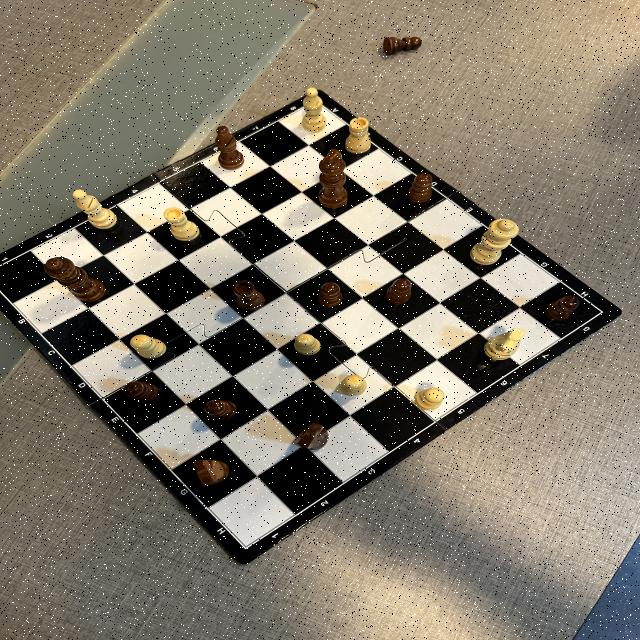Black-Bishop: (217, 126, 244, 170)
Black-King: (318, 149, 348, 209)
Black-Knight: (194, 458, 232, 486), (298, 423, 330, 450)
Black-Pawn: (382, 36, 422, 56), (409, 172, 434, 204), (546, 296, 579, 320), (124, 380, 158, 402), (386, 278, 412, 306), (204, 398, 237, 420), (316, 282, 342, 309)
Black-Queen: (44, 256, 107, 300)
Black-Rook: (232, 278, 266, 310)
White-Bishop: (72, 188, 118, 230), (302, 87, 326, 132)
White-Knight: (484, 327, 524, 361)
White-Pawn: (130, 334, 168, 359), (414, 388, 444, 410), (294, 333, 322, 355), (340, 374, 366, 396)
White-Queen: (471, 218, 519, 264)
White-Rook: (164, 206, 200, 242), (346, 116, 370, 154)
